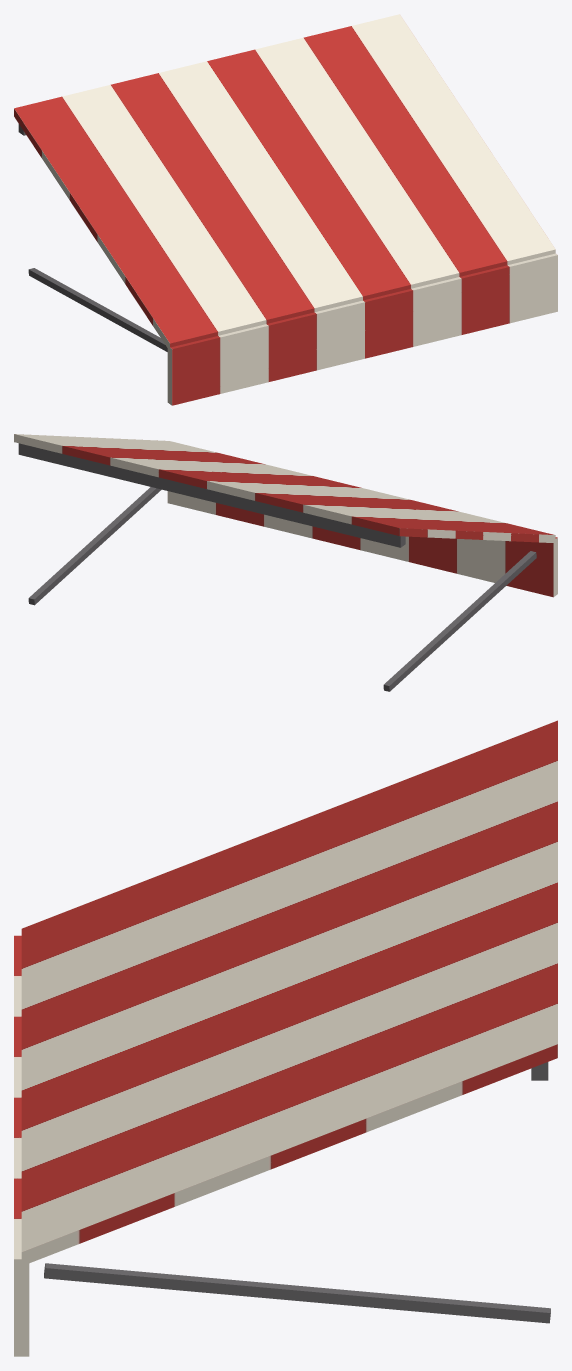
The model's file is awning.glb.
3 views of the same model, one above another, from view 1: azimuth 30°, elevation 25°; view 2: azimuth 150°, elevation 25°; view 3: azimuth 270°, elevation 25° (orthographic). The views are drawn at different scales.
Visible parts, largest first — view 1: awning_canvas, awning_iron; view 2: awning_canvas, awning_iron; view 3: awning_canvas, awning_iron.
Boxes of the visible parts, left/top/right/bottom form: awning_canvas: left=14, top=14, right=557, bottom=405; awning_iron: left=18, top=124, right=167, bottom=351; awning_canvas: left=14, top=434, right=557, bottom=597; awning_iron: left=18, top=443, right=536, bottom=691; awning_canvas: left=14, top=720, right=557, bottom=1356; awning_iron: left=44, top=1062, right=550, bottom=1323.
Size of the model in its own units: 2 by 0.9 by 1.42.
Materials: 2 (1 with a texture image).
